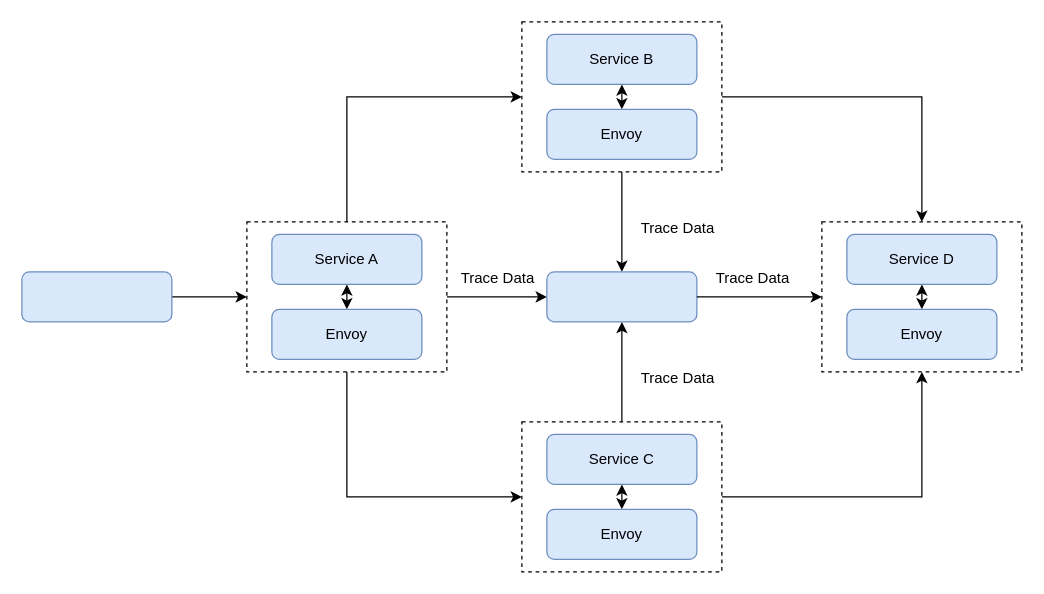
Image size: 1044x594. Some labels were removed from this diagram. The centre of each missing label's shape, as x and y in pixels:
Front Proxy: the point at 96,296
Jeager: the point at 621,296
